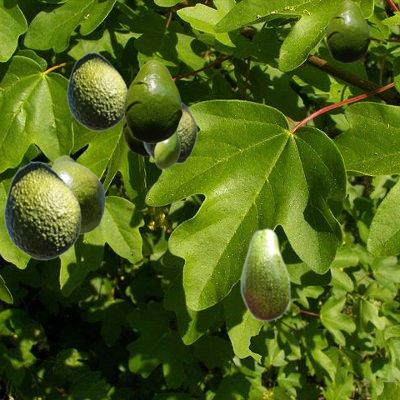avocado: (3, 161, 80, 259), (66, 52, 127, 130), (240, 227, 290, 321), (124, 60, 181, 142), (51, 155, 104, 233), (143, 102, 196, 163), (326, 0, 369, 62), (154, 130, 179, 168), (122, 119, 148, 155)
